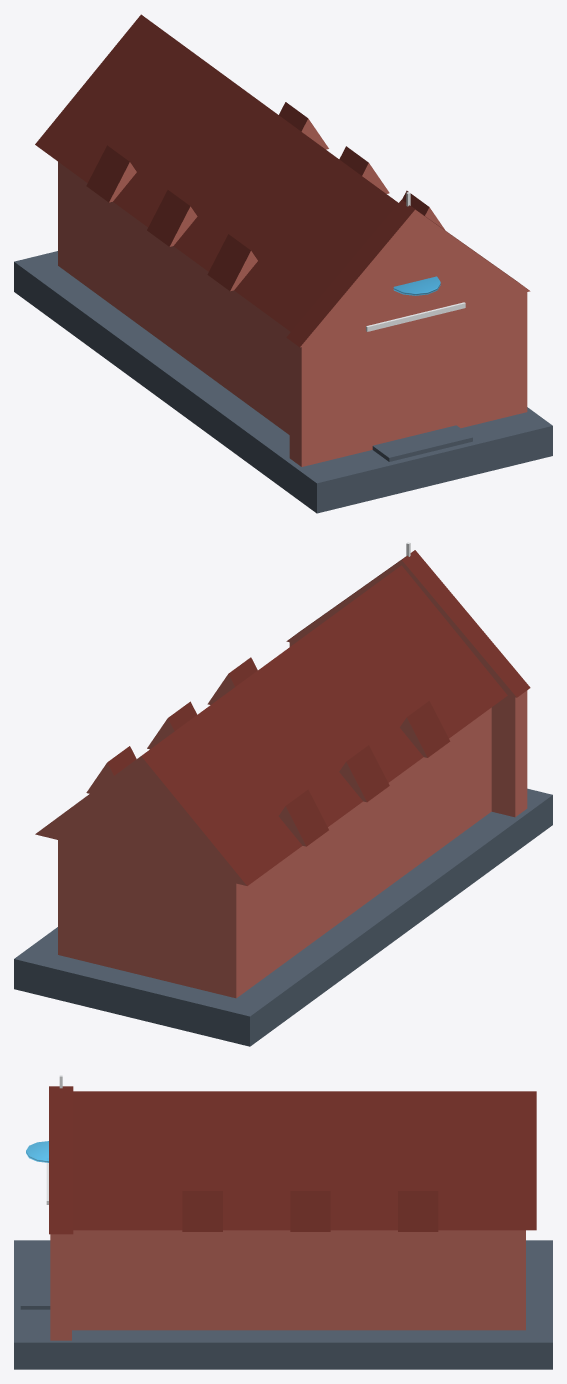
Rendered from lm_10_domaine_de_marie_base.glb.
3 views of the same model, one above another, from view 1: azimuth 30°, elevation 25°; view 2: azimuth 150°, elevation 25°; view 3: azimuth 270°, elevation 25° (orthographic). The views are drawn at different scales.
Visible parts, largest first — view 1: steep_norman_roof_slope_l, front_facade_lower, stone_plinth, nave_walls, front_gable_screen_gable_f, front_gable_screen_slope_l, entry_landing, dormer_w_-10.0_slope_l, dormer_w_-2.0_slope_l, dormer_w_6.0_slope_l, front_white_frame, rose_window_center; view 2: steep_norman_roof_slope_l, nave_walls, stone_plinth, steep_norman_roof_gable_b, front_facade_lower, front_gable_screen_slope_l, front_gable_screen_gable_b, dormer_w_-2.0_slope_l, dormer_w_-10.0_slope_l, dormer_w_6.0_slope_l; view 3: steep_norman_roof_slope_r, nave_walls, stone_plinth, front_gable_screen_slope_r, front_facade_lower, dormer_e_-10.0_slope_r, dormer_e_-2.0_slope_r, dormer_e_6.0_slope_r, entry_landing, rose_window_center.
Part boxes in pixels (x1=…): steep_norman_roof_slope_l: x1=35, y1=14, x2=398, y2=331; front_facade_lower: x1=289, y1=292, x2=527, y2=466; stone_plinth: x1=14, y1=251, x2=552, y2=513; nave_walls: x1=58, y1=162, x2=290, y2=434; front_gable_screen_gable_f: x1=300, y1=209, x2=530, y2=347; front_gable_screen_slope_l: x1=286, y1=199, x2=414, y2=347; entry_landing: x1=372, y1=425, x2=472, y2=461; dormer_w_-10.0_slope_l: x1=86, y1=145, x2=129, y2=202; dormer_w_-2.0_slope_l: x1=147, y1=190, x2=190, y2=246; dormer_w_6.0_slope_l: x1=207, y1=234, x2=250, y2=290; front_white_frame: x1=366, y1=302, x2=465, y2=331; rose_window_center: x1=393, y1=276, x2=440, y2=295; steep_norman_roof_slope_l: x1=141, y1=565, x2=507, y2=885; nave_walls: x1=58, y1=707, x2=491, y2=998; stone_plinth: x1=14, y1=788, x2=552, y2=1046; steep_norman_roof_gable_b: x1=35, y1=756, x2=246, y2=885; front_facade_lower: x1=289, y1=642, x2=527, y2=817; front_gable_screen_slope_l: x1=402, y1=550, x2=530, y2=697; front_gable_screen_gable_b: x1=286, y1=560, x2=516, y2=697; dormer_w_-2.0_slope_l: x1=346, y1=745, x2=389, y2=802; dormer_w_-10.0_slope_l: x1=286, y1=789, x2=328, y2=846; dormer_w_6.0_slope_l: x1=407, y1=701, x2=450, y2=757; steep_norman_roof_slope_r: x1=73, y1=1091, x2=536, y2=1230; nave_walls: x1=72, y1=1230, x2=525, y2=1330; stone_plinth: x1=14, y1=1240, x2=552, y2=1369; front_gable_screen_slope_r: x1=49, y1=1086, x2=73, y2=1234; front_facade_lower: x1=50, y1=1234, x2=71, y2=1340; dormer_e_-10.0_slope_r: x1=398, y1=1191, x2=438, y2=1231; dormer_e_-2.0_slope_r: x1=290, y1=1191, x2=330, y2=1231; dormer_e_6.0_slope_r: x1=182, y1=1191, x2=222, y2=1231; entry_landing: x1=20, y1=1269, x2=50, y2=1309; rose_window_center: x1=26, y1=1141, x2=48, y2=1162.
Size of the model in its own units: 18 by 19.85 by 40.
